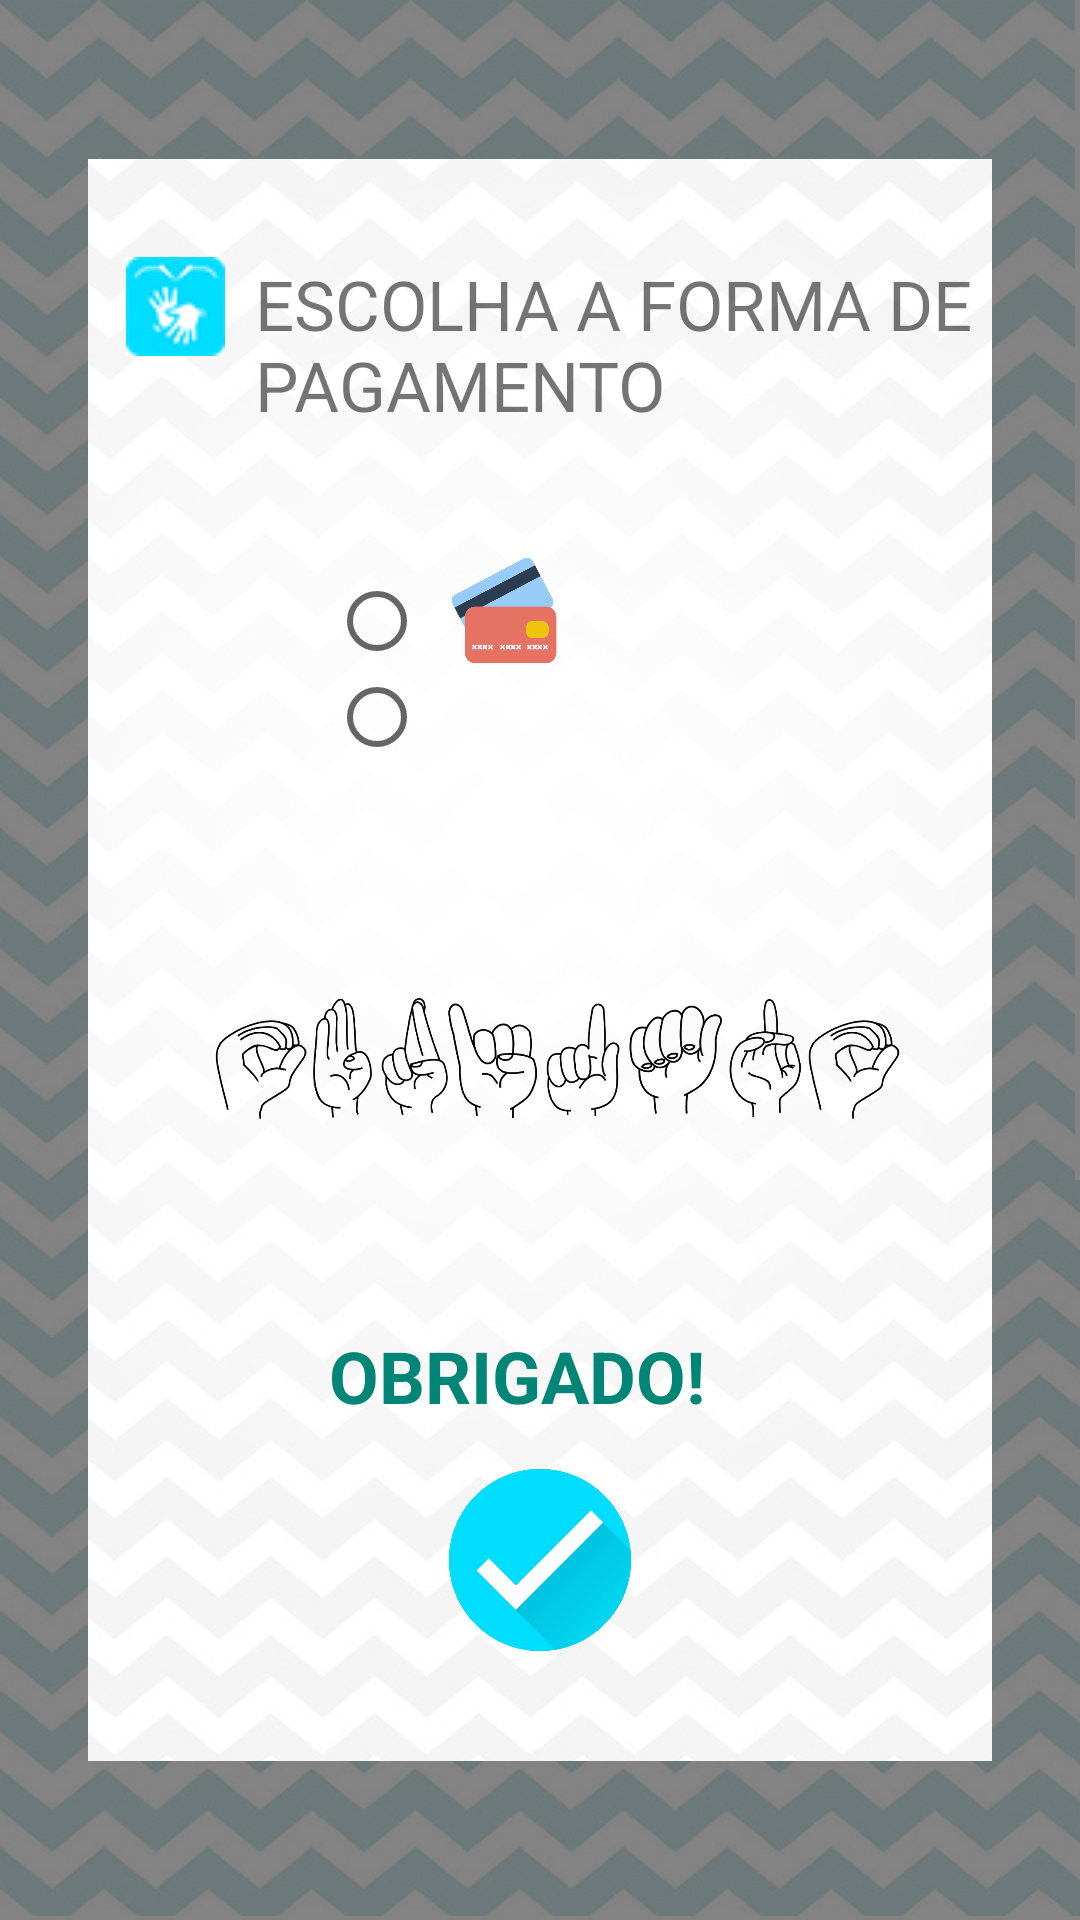

Named icons in this screenshot (1080 x 1920) and their bounding boxes, (x1, y1, x2, y2):
cartaocredito: (452, 558, 557, 663)
checkcircle: (449, 1469, 631, 1651)
